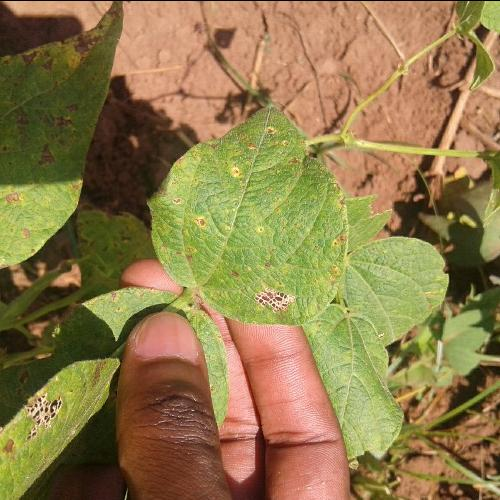hawar: (2, 40, 82, 188), (0, 371, 71, 462), (164, 198, 226, 272), (240, 277, 319, 322)
